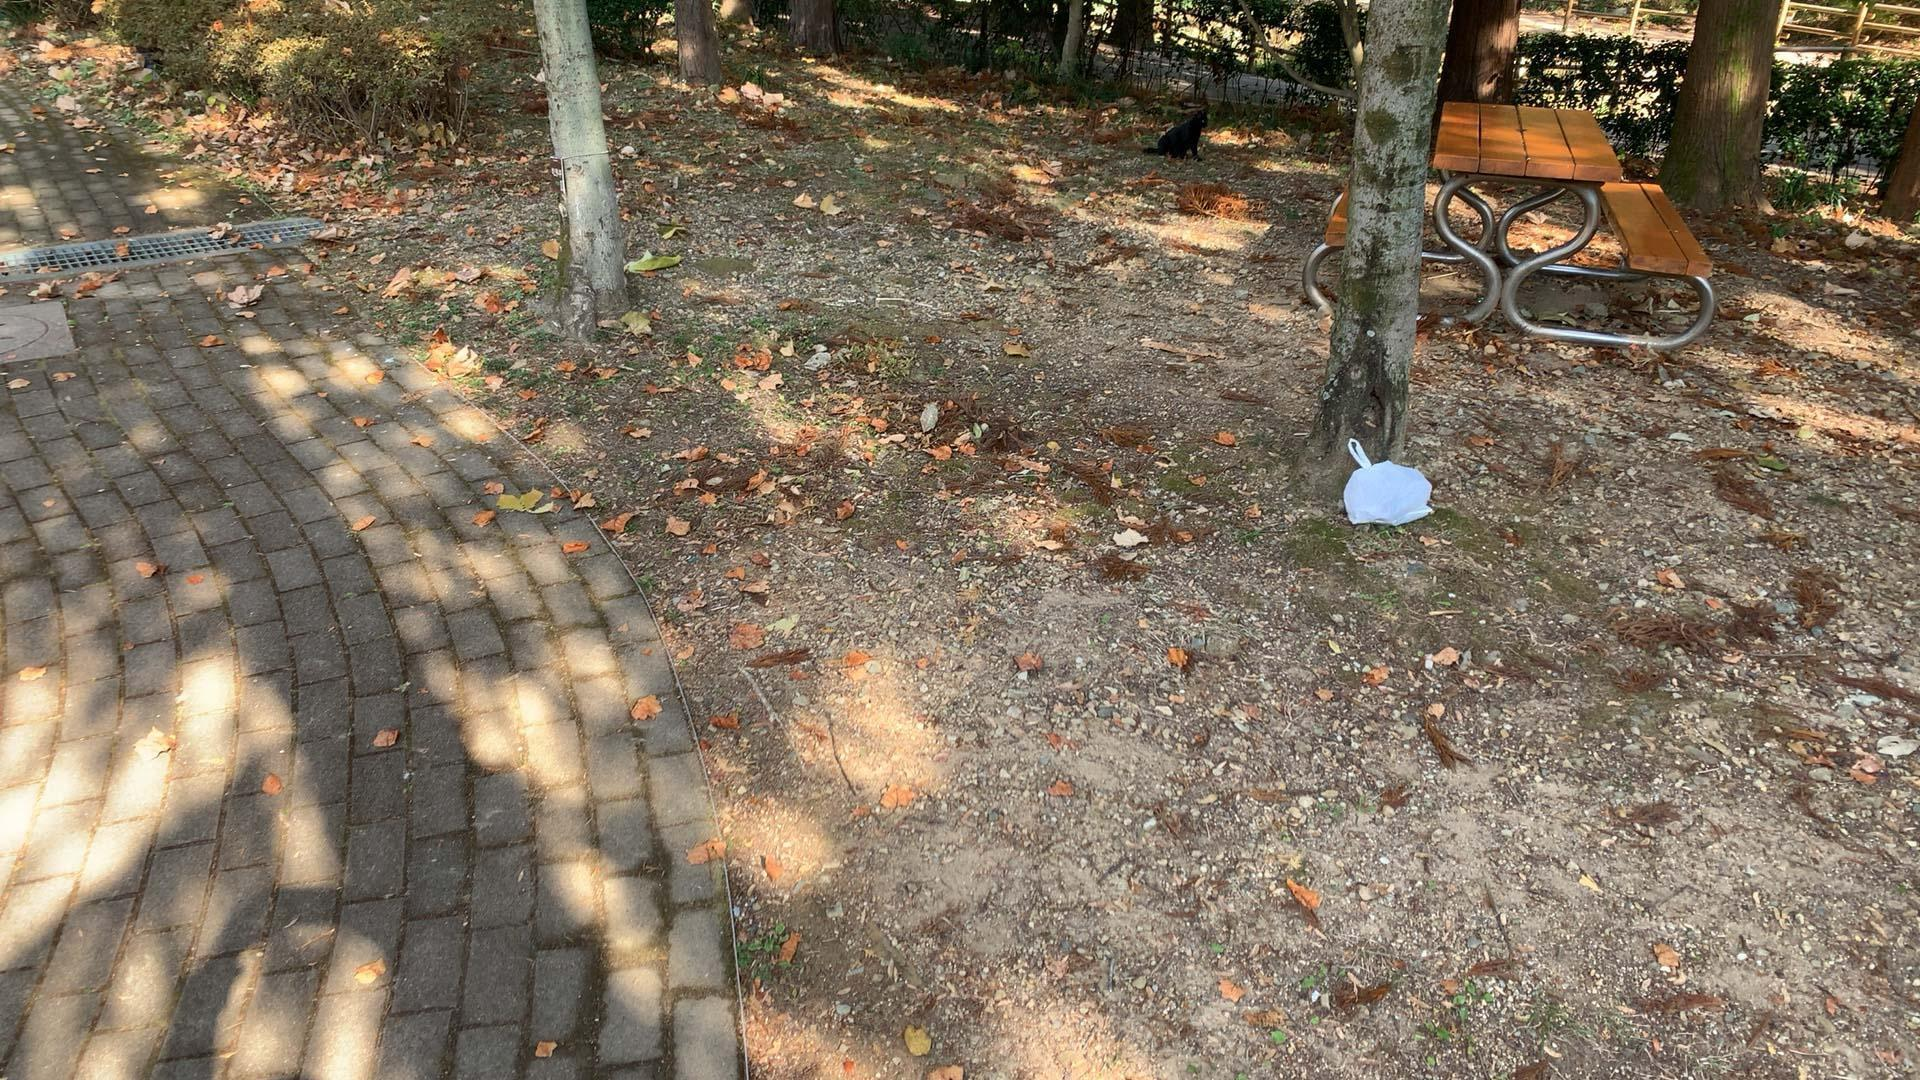white_bag: (1331, 429, 1451, 531)
